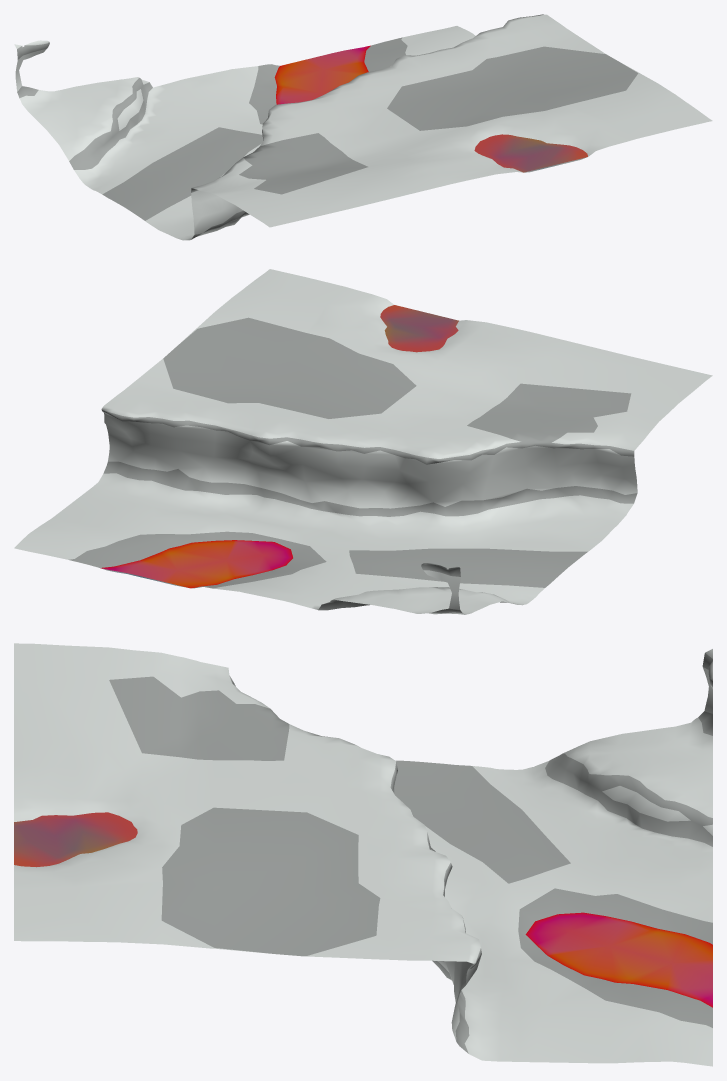
3 views of the same model, one above another, from view 1: azimuth 30°, elevation 25°; view 2: azimuth 150°, elevation 25°; view 3: azimuth 270°, elevation 25° (orthographic). The views are drawn at different scales.
Visible parts, largest first — view 1: G:\FFXIV-MapTools\exports\r2f1\bg\ex1\01_roc_r2\fld\r2f1\bgp (×7); view 2: G:\FFXIV-MapTools\exports\r2f1\bg\ex1\01_roc_r2\fld\r2f1\bgp (×7); view 3: G:\FFXIV-MapTools\exports\r2f1\bg\ex1\01_roc_r2\fld\r2f1\bgp (×7).
Boxes of the visible parts, <box> form: G:\FFXIV-MapTools\exports\r2f1\bg\ex1\01_roc_r2\fld\r2f1\bgp (×7): <box>14,14,712,240</box>; G:\FFXIV-MapTools\exports\r2f1\bg\ex1\01_roc_r2\fld\r2f1\bgp (×7): <box>14,269,712,614</box>; G:\FFXIV-MapTools\exports\r2f1\bg\ex1\01_roc_r2\fld\r2f1\bgp (×7): <box>14,643,712,1066</box>.
Bounding box in the file's own units: 128 × 25.81 × 128.
